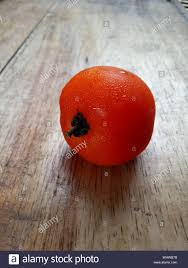tomato: (60, 66, 155, 167)
